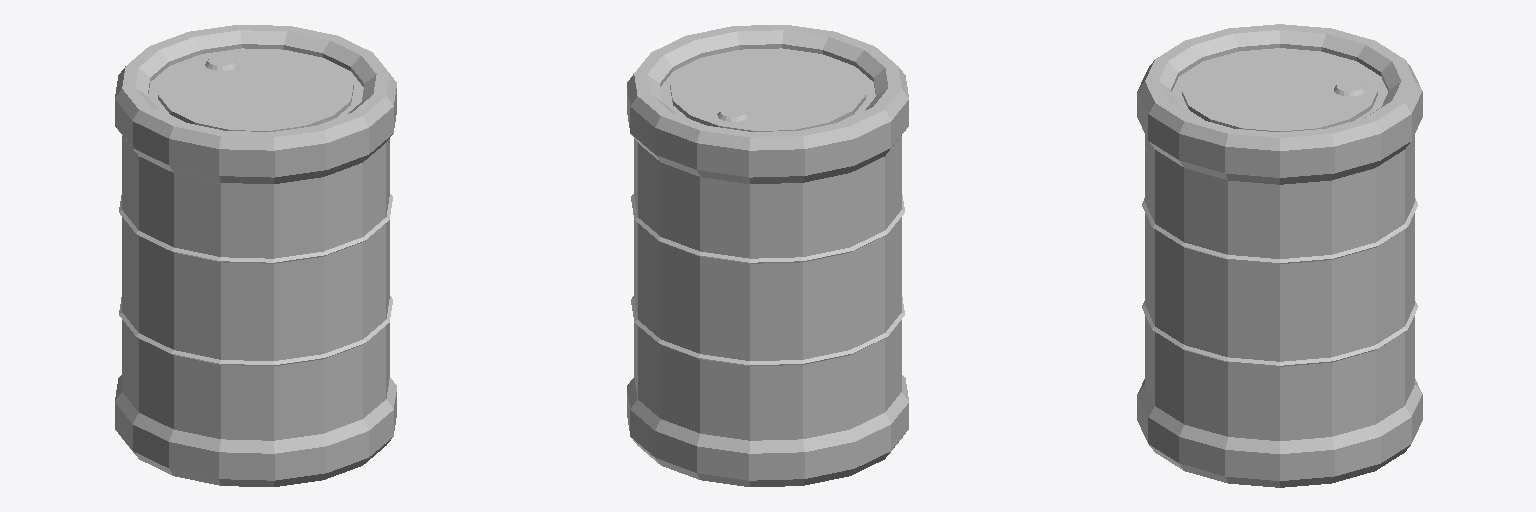
Rendered from Barrel.obj.
The picture shows the model from 3 angles: view 1: azimuth 30°, elevation 25°; view 2: azimuth 150°, elevation 25°; view 3: azimuth 270°, elevation 25°; orthographic projection.
Parts seen in each view (by area): view 1: Cylinder.005; view 2: Cylinder.005; view 3: Cylinder.005.
Part boxes in pixels (x1,y1,x2,y2): Cylinder.005: (115, 25, 396, 486); Cylinder.005: (627, 25, 908, 486); Cylinder.005: (1137, 24, 1422, 487).
Bounding box in the file's own units: 0.7388 × 1 × 0.7388.